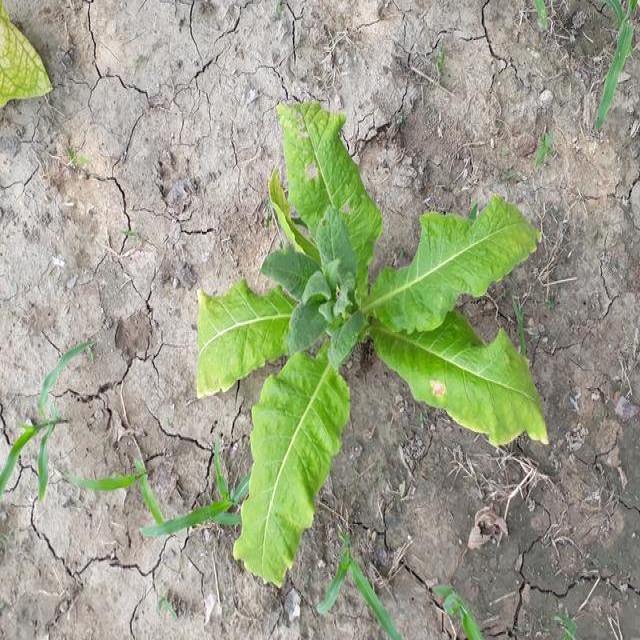crop: (201, 106, 546, 578)
